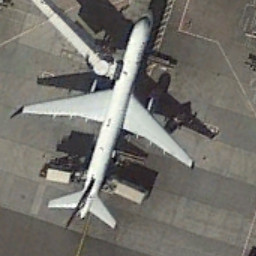Airplane: (5, 6, 205, 237)
